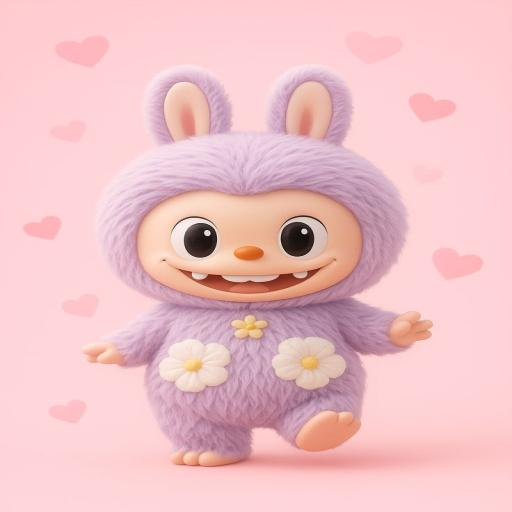labubu: (120, 52, 432, 460)
